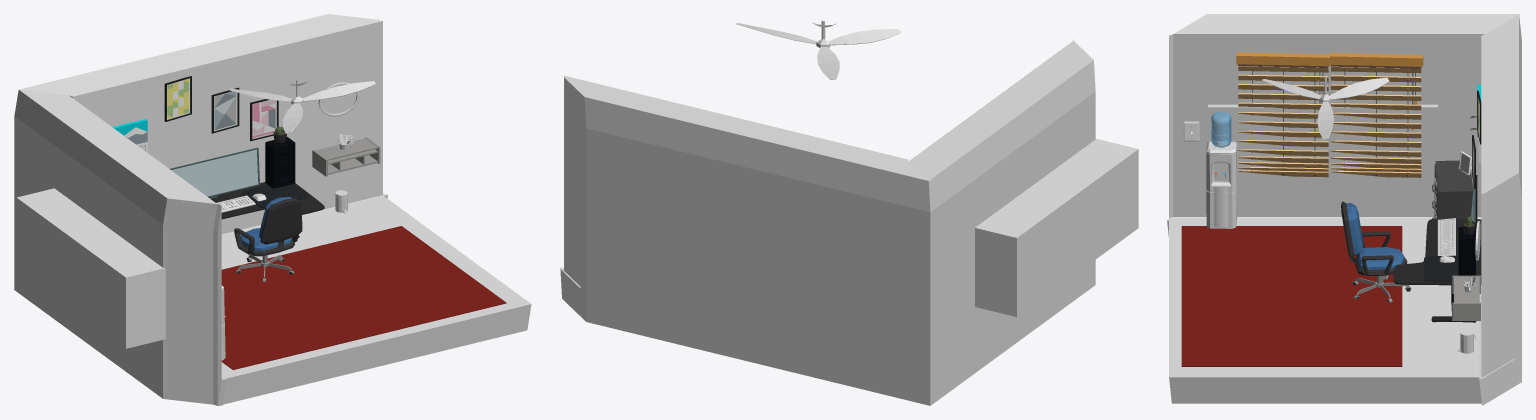
3 renders of one model, left to right at view 1: azimuth 30°, elevation 25°; view 2: azimuth 150°, elevation 25°; view 3: azimuth 270°, elevation 25°, orthographic. The views are drawn at different scales.
Parts seen in each view (by area): view 1: Plane, WoolCarpet1, Cube, OfficeChair, computerScreen, Shelf_Small2, Ceiling Fan, BassSpeakers1, Node.002, Node.003, Node.004, Plane.001_Plane.002 (+3 smaller); view 2: Plane, Cube, Ceiling Fan; view 3: Plane, WoolCarpet1, Cube, Cooler_Cylinder.004, OfficeChair, Main_, Ceiling Fan, Plane.001_Plane.002, Shelf_Small2, group427675855, group427675855.001, BassSpeakers1 (+32 smaller).
Boxes of the visible parts, x1,y1,x2,y2 form: Plane: (14,14,531,405); WoolCarpet1: (221,226,506,369); Cube: (16,188,165,348); OfficeChair: (234,197,302,281); computerScreen: (170,147,259,198); Shelf_Small2: (312,137,380,176); Ceiling Fan: (227,80,375,133); BassSpeakers1: (265,137,295,188); Node.002: (211,87,239,133); Node.003: (164,76,191,121); Node.004: (250,99,278,141); Plane.001_Plane.002: (211,182,324,219); Plane: (560,39,1095,405); Cube: (975,138,1138,316); Ceiling Fan: (736,21,901,80); Plane: (1167,14,1521,405); WoolCarpet1: (1181,226,1402,366); Cube: (1208,104,1437,181); Cooler_Cylinder.004: (1206,112,1237,228); OfficeChair: (1341,201,1411,302); Main_: (1435,160,1472,219); Ceiling Fan: (1262,77,1389,139); Plane.001_Plane.002: (1393,219,1481,285); Shelf_Small2: (1452,275,1480,320); group427675855: (1236,52,1330,66); group427675855.001: (1329,53,1423,67); BassSpeakers1: (1458,227,1475,275).
Bounding box in the file's own units: 7.06 × 4.5 × 5.28.
